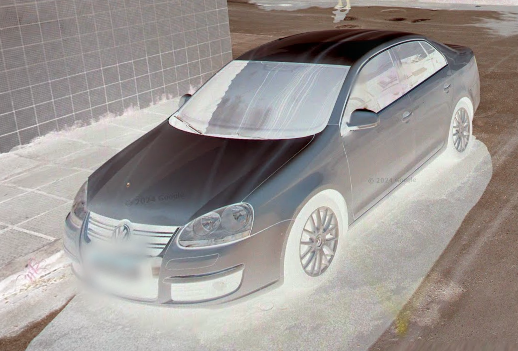car: (63, 30, 484, 303)
